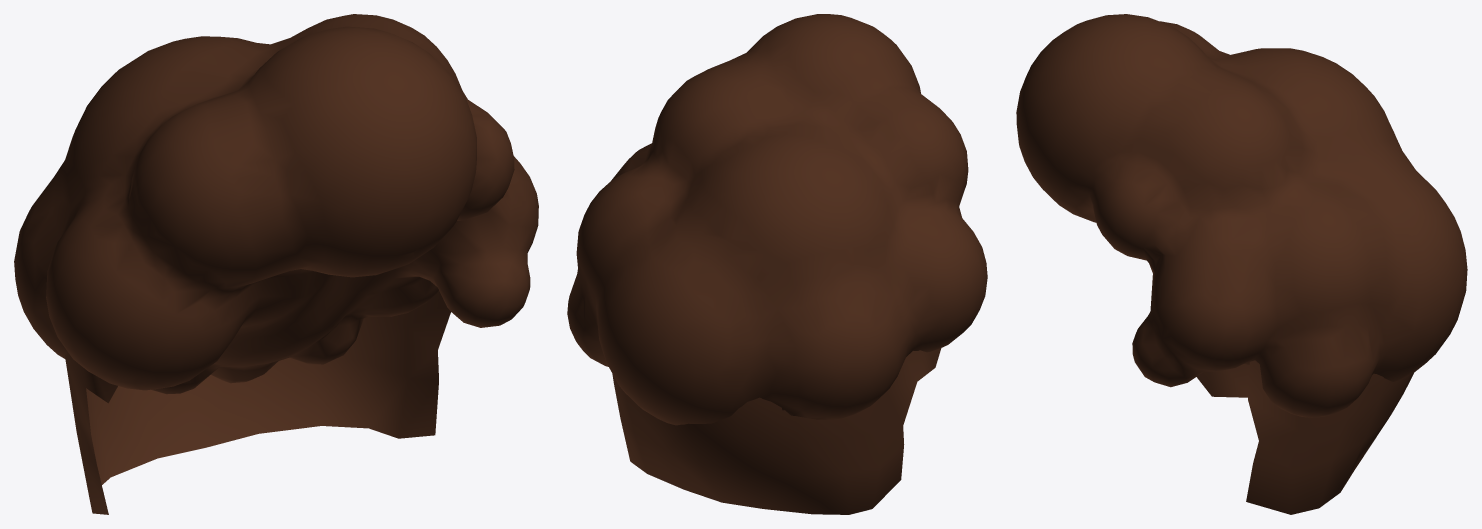
3 renders of one model, left to right at view 1: azimuth 30°, elevation 25°; view 2: azimuth 150°, elevation 25°; view 3: azimuth 270°, elevation 25°, orthographic. The views are drawn at different scales.
Visible parts, largest first — view 1: hairMediumNapoleon; view 2: hairMediumNapoleon; view 3: hairMediumNapoleon.
Boxes of the visible parts, x1=… form: hairMediumNapoleon: x1=14, y1=14, x2=538, y2=514; hairMediumNapoleon: x1=567, y1=14, x2=987, y2=514; hairMediumNapoleon: x1=1016, y1=14, x2=1467, y2=514.
Bounding box in the file's own units: 0.5657 × 0.5804 × 0.5504.
1 material, 1 textured.
